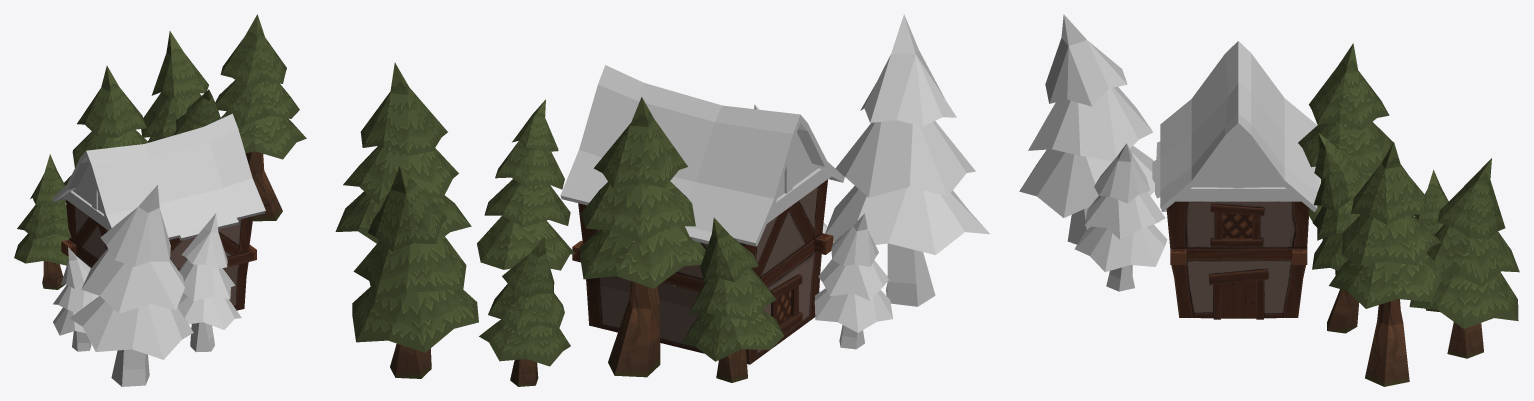
Rendered from ExportTreeAndHouse.fbx.
3 views of the same model, side by side, from view 1: azimuth 30°, elevation 25°; view 2: azimuth 150°, elevation 25°; view 3: azimuth 270°, elevation 25° (orthographic). The views are drawn at different scales.
Visible parts, largest first — view 1: Cube.000, Circle.015, Cylinder.008, Circle.000, Circle.004, Circle.002, Cube.013, Cylinder.001, Circle.001, Cylinder.004, Cube.004; view 2: Cube.000, Circle.015, Cylinder.001, Circle.002, Cylinder.008, Cylinder.004, Circle.004, Circle.003, Cube.004, Circle.001, Cube.013; view 3: Cube.000, Circle.015, Cylinder.008, Circle.002, Cube.013, Circle.000, Cylinder.001, Cube.004, Cylinder.004, Cube.005, Circle.003.
Boxes of the visible parts, x1,y1,x2,y2 form: Cube.000: (52,113,265,240); Circle.015: (69,185,193,386); Cylinder.008: (215,14,306,221); Circle.000: (177,213,241,352); Circle.004: (14,154,71,289); Circle.002: (141,31,208,142); Cube.013: (61,200,256,270); Cylinder.001: (64,66,148,185); Circle.001: (53,247,99,351); Cylinder.004: (174,89,220,135); Cube.004: (76,255,248,310); Cube.000: (560,65,844,246); Circle.015: (825,14,989,306); Cylinder.001: (579,97,705,377); Circle.002: (352,166,478,378); Cylinder.008: (335,62,471,243); Cylinder.004: (477,99,575,270); Circle.004: (682,218,784,382); Circle.003: (479,237,570,386); Cube.004: (586,252,821,364); Circle.001: (814,213,892,349); Cube.013: (572,179,833,292); Cube.000: (1152,41,1320,212); Circle.015: (1019,14,1154,244); Cylinder.008: (1329,142,1445,386); Circle.002: (1409,158,1519,358); Cube.013: (1166,201,1309,264); Circle.000: (1075,143,1167,291); Cylinder.001: (1298,43,1393,274); Cube.004: (1171,248,1305,319); Cylinder.004: (1312,132,1369,333); Cube.005: (1221,280,1256,318); Circle.003: (1413,170,1448,312).
Size of the model in its own units: 946 by 561 by 1027.
